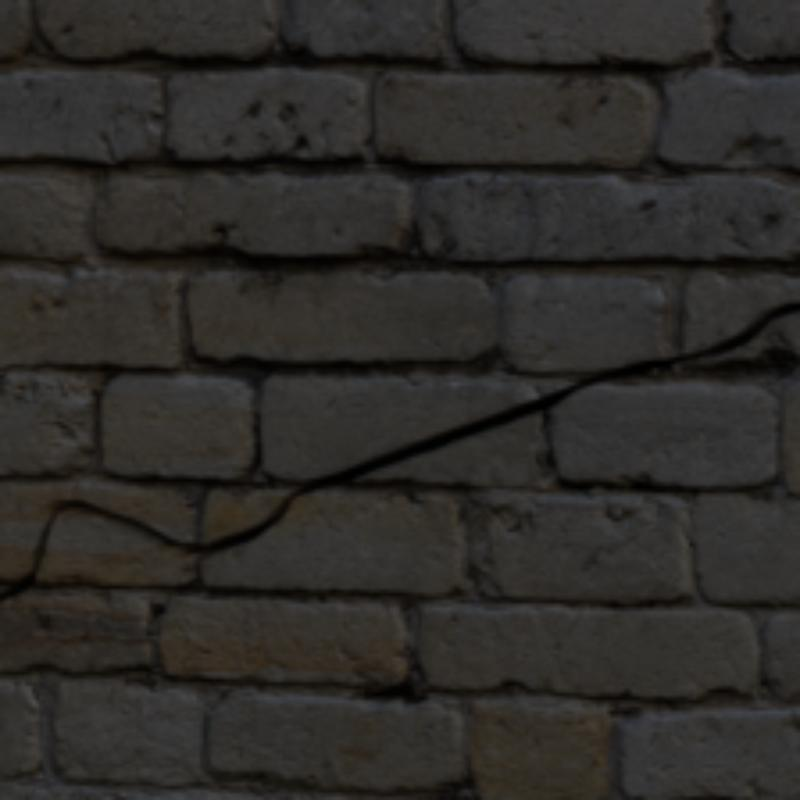crack: (48, 304, 796, 550), (0, 525, 46, 596)
